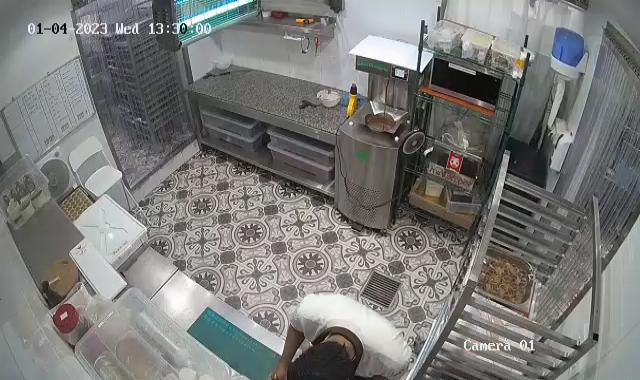no_hairnet: (288, 336, 359, 379)
